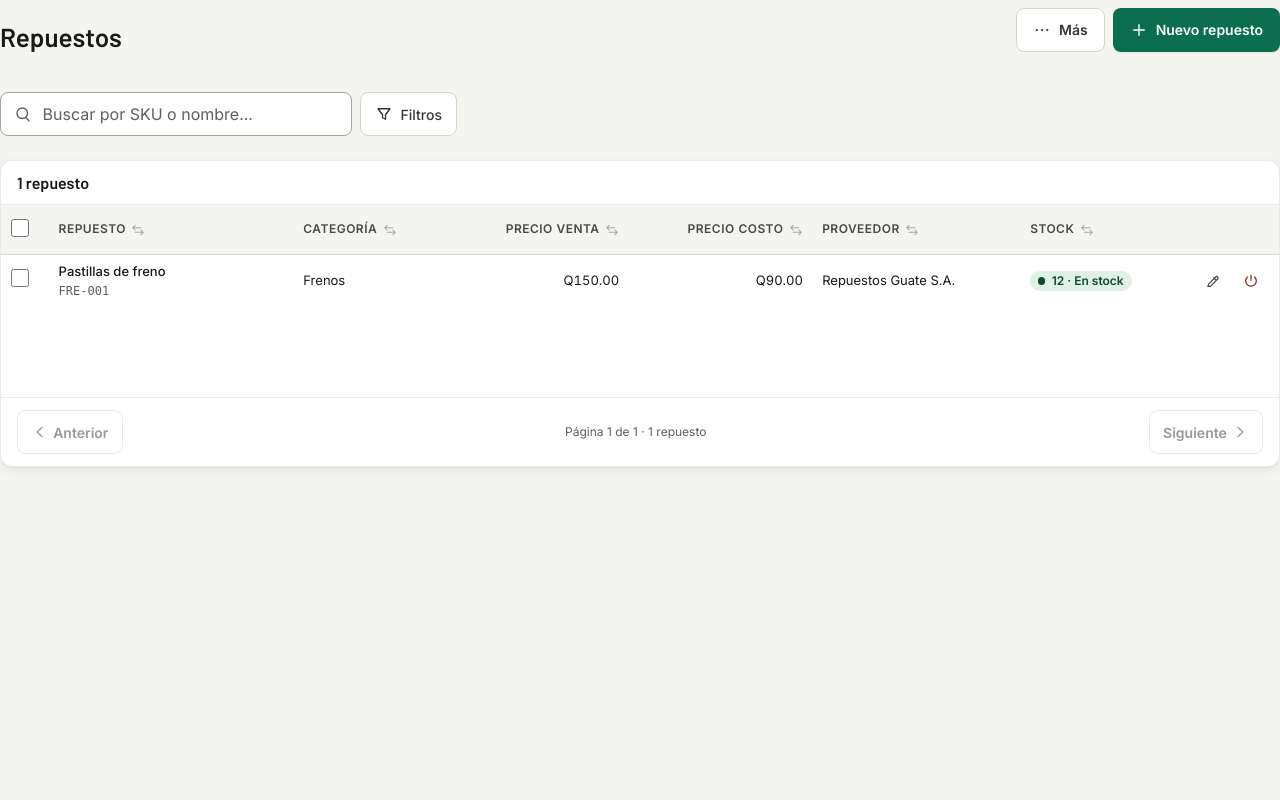
Test: RepuestosPage › T-035: pide confirmación antes de dar de baja y luego cambia el estado
Expected: the text "Pastillas de freno" is shown, [59, 262, 166, 282]
Click the button named "dar de baja" at (1251, 281), box [1233, 263, 1269, 299]
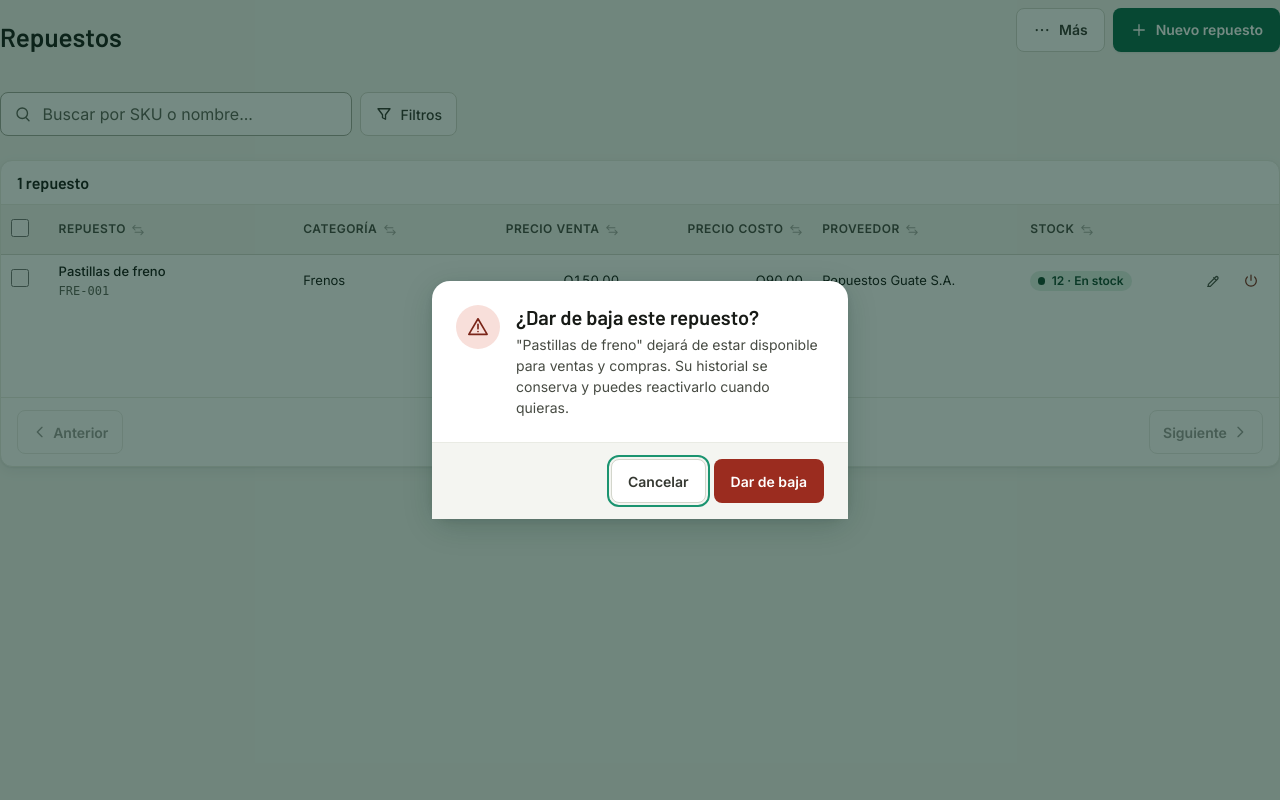
Click the button "Dar de baja" at (769, 481), box [714, 459, 824, 503]
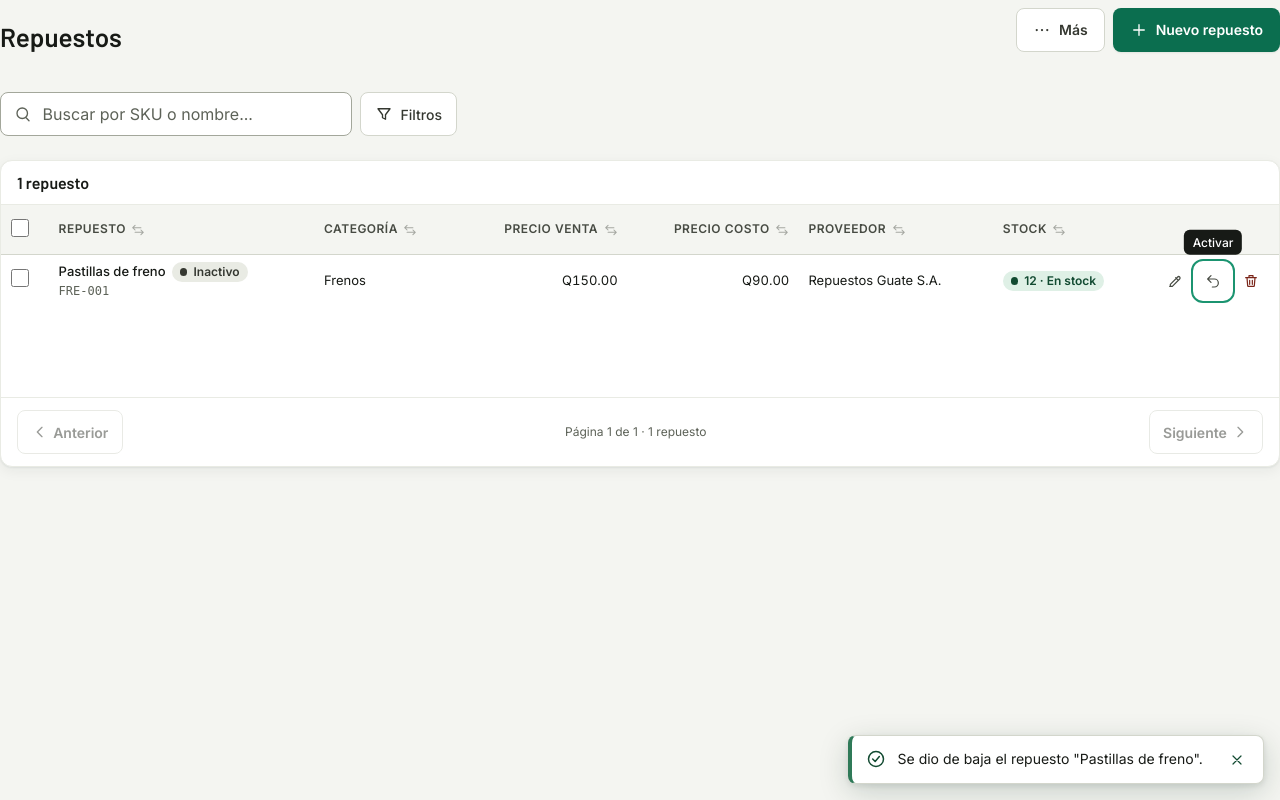
Now the message shows "Se dio de baja", box [898, 750, 1203, 767]
